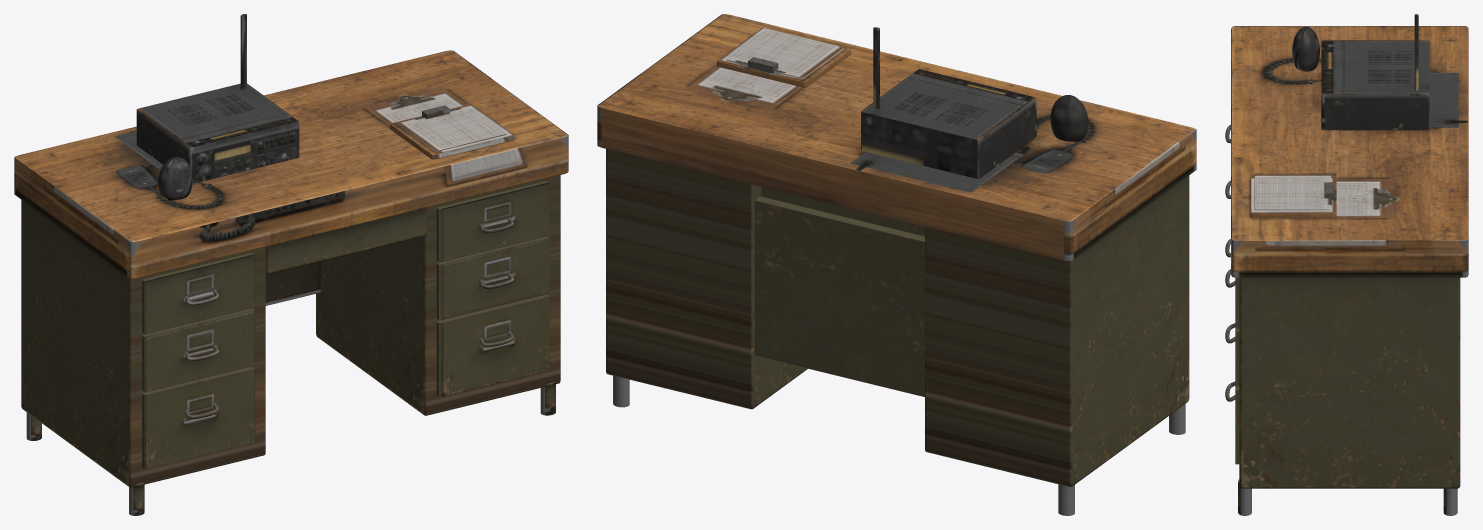
The model's file is watch-desk.glb.
3 views of the same model, side by side, from view 1: azimuth 30°, elevation 25°; view 2: azimuth 150°, elevation 25°; view 3: azimuth 270°, elevation 25° (orthographic). The views are drawn at different scales.
Visible parts, largest first — view 1: worktop, pedestal (×2), drawer-2 (×2), drawer-1 (×2), drawer-0 (×2), radio, pencil-drawer, log, back-panel, clipboard, hand-mic; view 2: pedestal (×2), worktop, back-panel, radio, log, pencil-drawer, clipboard, hand-mic; view 3: pedestal, worktop, radio, log, clipboard, hand-mic, leveling-foot (×2), drawer-2, antenna, drawer-1.
Boxes of the visible parts, left/top/right/bottom form: worktop: left=14, top=50, right=568, bottom=278; pedestal (×2): left=21, top=175, right=560, bottom=487; drawer-2 (×2): left=142, top=294, right=549, bottom=469; drawer-1 (×2): left=142, top=236, right=549, bottom=391; drawer-0 (×2): left=142, top=181, right=549, bottom=333; radio: left=136, top=83, right=299, bottom=183; pencil-drawer: left=265, top=207, right=426, bottom=274; log: left=397, top=106, right=505, bottom=151; back-panel: left=265, top=261, right=321, bottom=305; clipboard: left=390, top=104, right=513, bottom=159; hand-mic: left=158, top=157, right=193, bottom=200; pedestal (×2): left=606, top=149, right=1189, bottom=486; worktop: left=597, top=14, right=1196, bottom=261; back-panel: left=754, top=196, right=924, bottom=396; radio: left=861, top=69, right=1036, bottom=178; log: left=726, top=29, right=843, bottom=79; pencil-drawer: left=761, top=187, right=924, bottom=236; clipboard: left=717, top=27, right=850, bottom=87; hand-mic: left=1050, top=95, right=1088, bottom=141; pedestal: left=1239, top=277, right=1460, bottom=488; worktop: left=1231, top=26, right=1468, bottom=277; radio: left=1321, top=40, right=1429, bottom=130; log: left=1254, top=174, right=1330, bottom=210; clipboard: left=1250, top=173, right=1336, bottom=217; hand-mic: left=1292, top=26, right=1319, bottom=71; leveling-foot (×2): left=1238, top=479, right=1457, bottom=515; drawer-2: left=1235, top=386, right=1239, bottom=464; antenna: left=1414, top=14, right=1418, bottom=90; drawer-1: left=1235, top=328, right=1239, bottom=386.
Size of the model in its own units: 1.8 by 1.52 by 0.8602.
6 materials, 6 textured.
